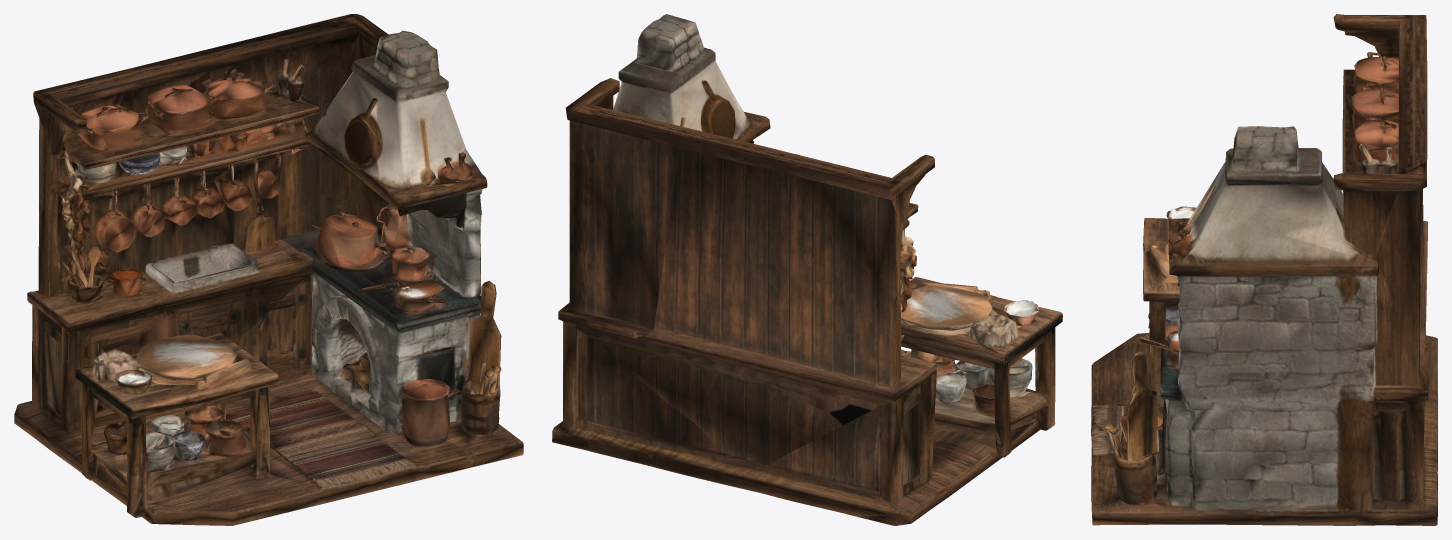
The model's file is city_bolu_mengen_kitchen.glb.
The picture shows the model from 3 angles, left to right: view 1: azimuth 30°, elevation 25°; view 2: azimuth 150°, elevation 25°; view 3: azimuth 270°, elevation 25°; orthographic projection. The views are drawn at different scales.
Visible parts, largest first — view 1: Mesh1.0; view 2: Mesh1.0; view 3: Mesh1.0.
Part boxes in pixels (left/top/right/bottom): Mesh1.0: left=14, top=14, right=523, bottom=525; Mesh1.0: left=552, top=14, right=1062, bottom=525; Mesh1.0: left=1091, top=14, right=1437, bottom=525.
Size of the model in its own units: 2.57 by 2.4 by 2.
Materials: 1 (1 with a texture image).
